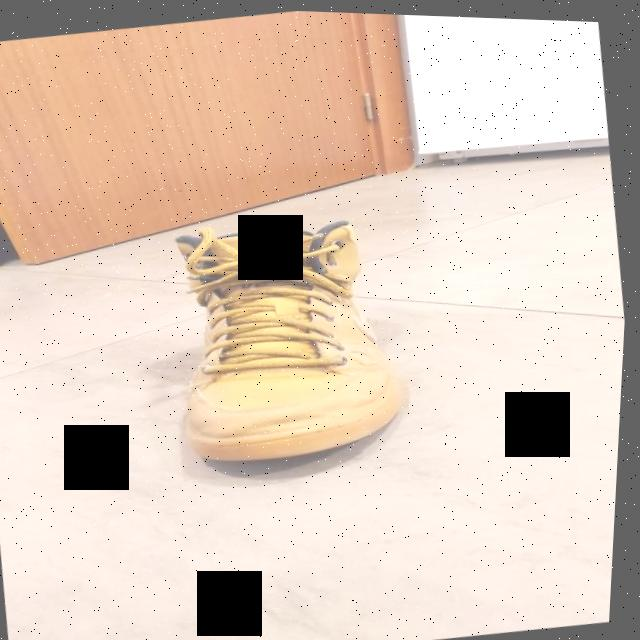shoe: (160, 201, 428, 474)
